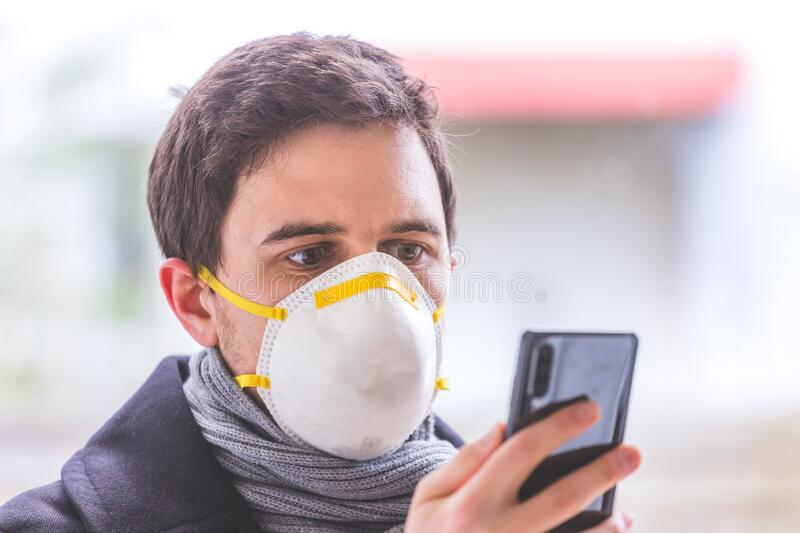n95: (240, 251, 447, 468)
